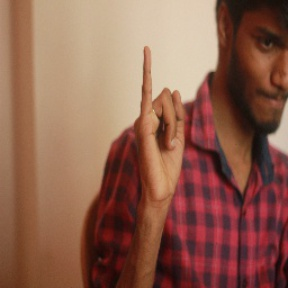I: (129, 43, 192, 202)
